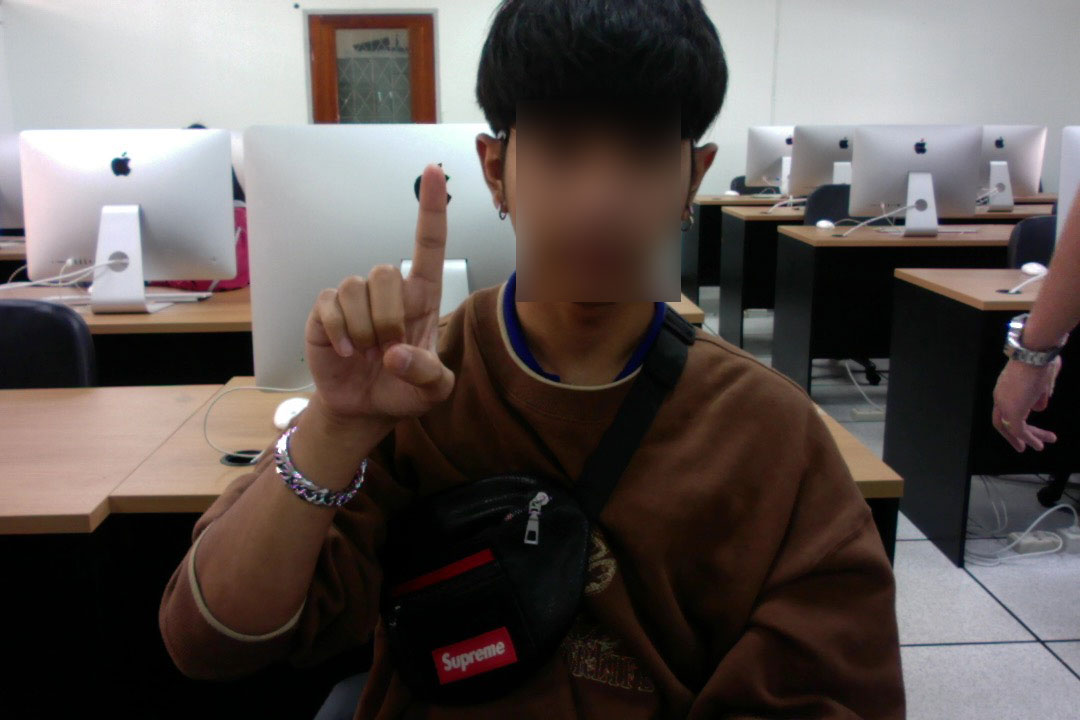dor: (281, 161, 470, 427)
